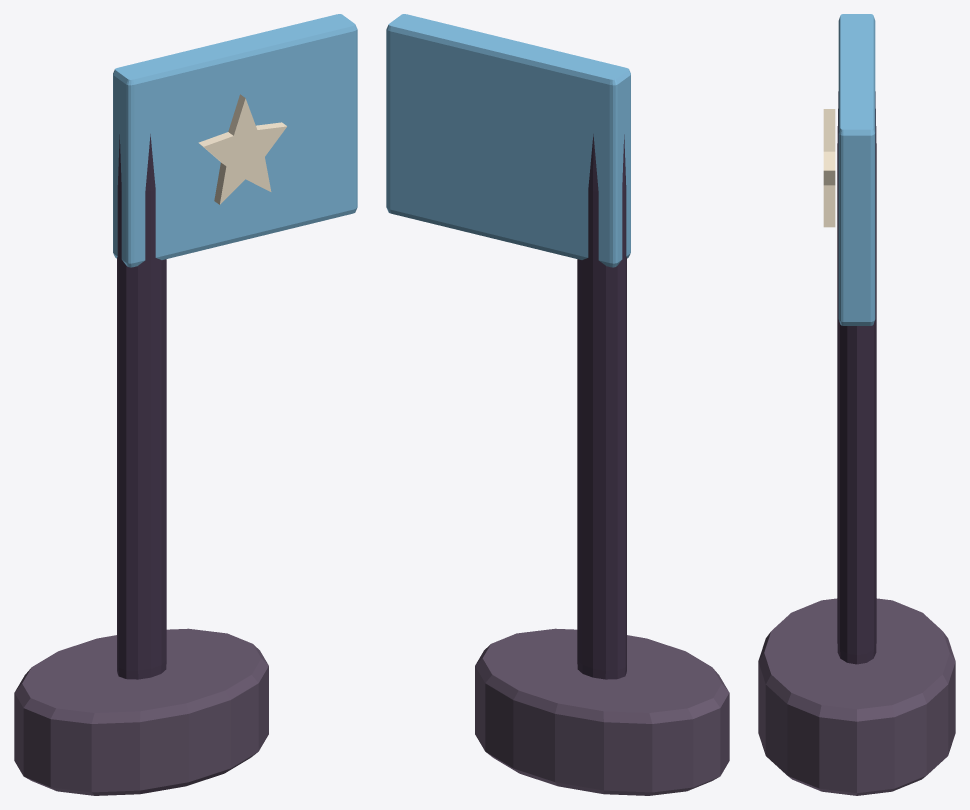
File: badge_target_pole.glb
The picture shows the model from 3 angles, left to right: view 1: azimuth 30°, elevation 25°; view 2: azimuth 150°, elevation 25°; view 3: azimuth 270°, elevation 25°; orthographic projection. The views are drawn at different scales.
Parts seen in each view (by area): view 1: model; view 2: model; view 3: model.
Boxes of the visible parts, x1=… form: model: x1=14, y1=14, x2=357, y2=795; model: x1=386, y1=14, x2=729, y2=795; model: x1=758, y1=14, x2=955, y2=795.
Bounding box in the file's own units: 0.4 × 0.8 × 0.2.
